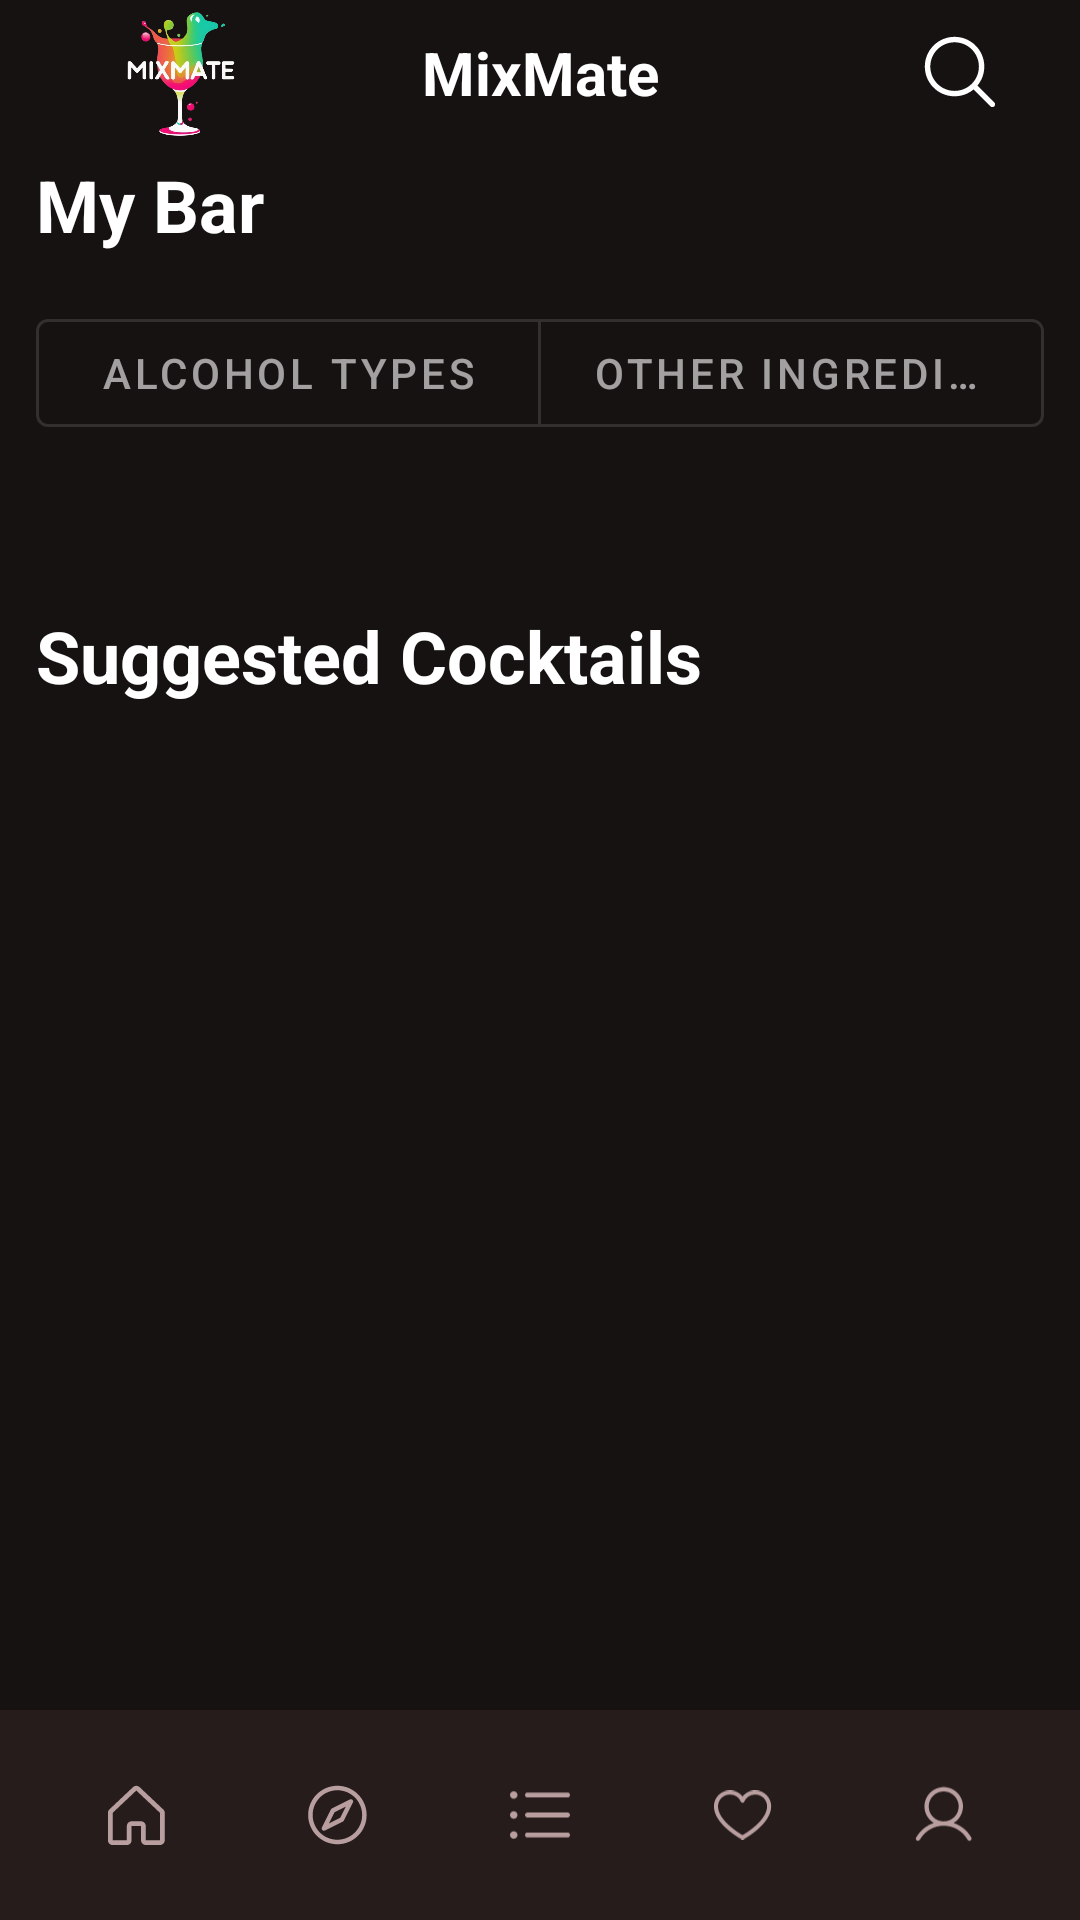

Locate icon controls on the screen. Image size 1080px x 1920px, boxes as bbox=[x1, y1, x2, y2].
Discover: bbox=[308, 1785, 367, 1845]
Favourites: bbox=[714, 1790, 771, 1840]
Home: bbox=[108, 1785, 165, 1845]
Profile: bbox=[916, 1786, 972, 1841]
Search: bbox=[924, 36, 995, 107]
